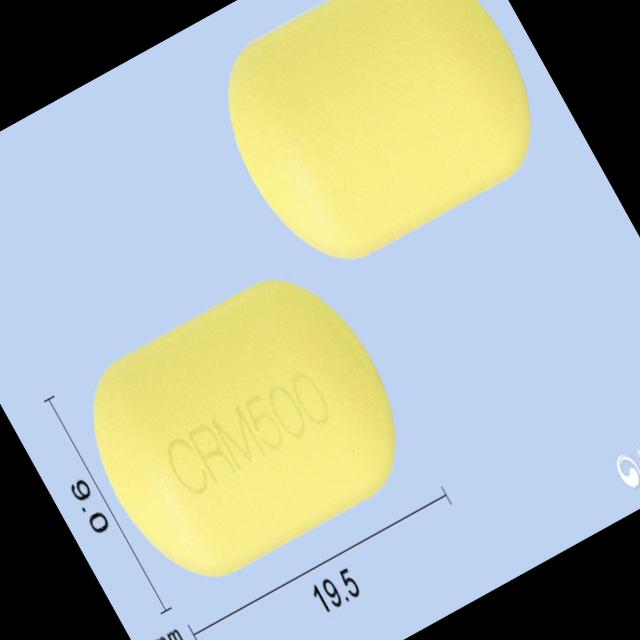Crama: (58, 248, 430, 604)
